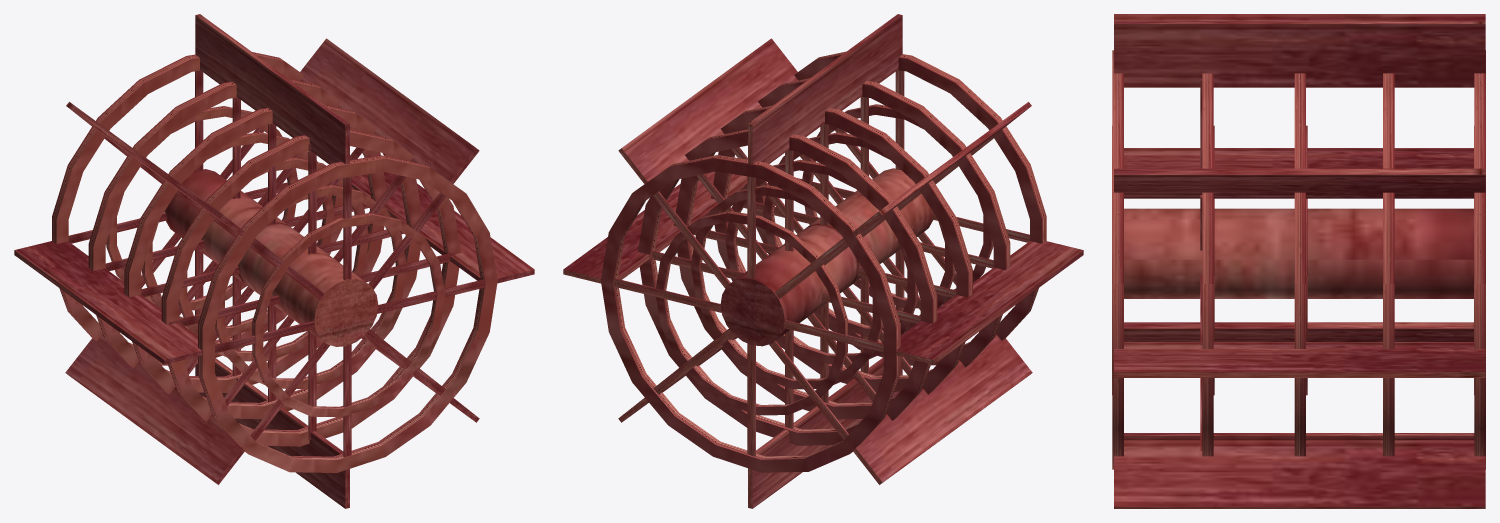
Rendered from boatWheel.fbx.
The picture shows the model from 3 angles, left to right: view 1: azimuth 30°, elevation 25°; view 2: azimuth 150°, elevation 25°; view 3: azimuth 270°, elevation 25°; orthographic projection. The views are drawn at different scales.
Visible parts, largest first — view 1: polySurface157; view 2: polySurface157; view 3: polySurface157.
Part boxes in pixels (x1,y1,x2,y2): polySurface157: (14,14,534,508); polySurface157: (563,14,1083,508); polySurface157: (1112,14,1485,508).
Size of the model in its own units: 8.89 by 8.81 by 6.27.
1 material, 1 textured.
